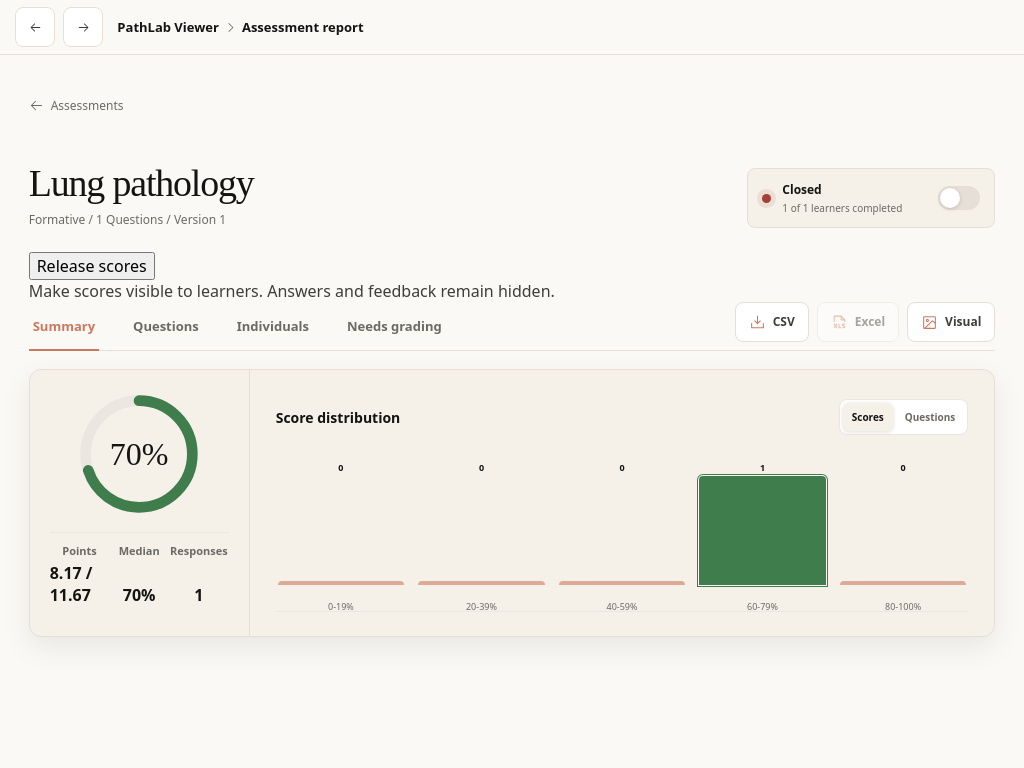
Test: presents a dedicated visual report with question and student views
Expected: the heading "Lung pathology" is shown, [29,162,254,204]
Expected: the heading "Score distribution" is shown, [276,408,400,427]
What coordinates should you click on to do the following:
click the button "Release scores"
I would click on:
 (92, 266)
Its box is [29,252,155,280].
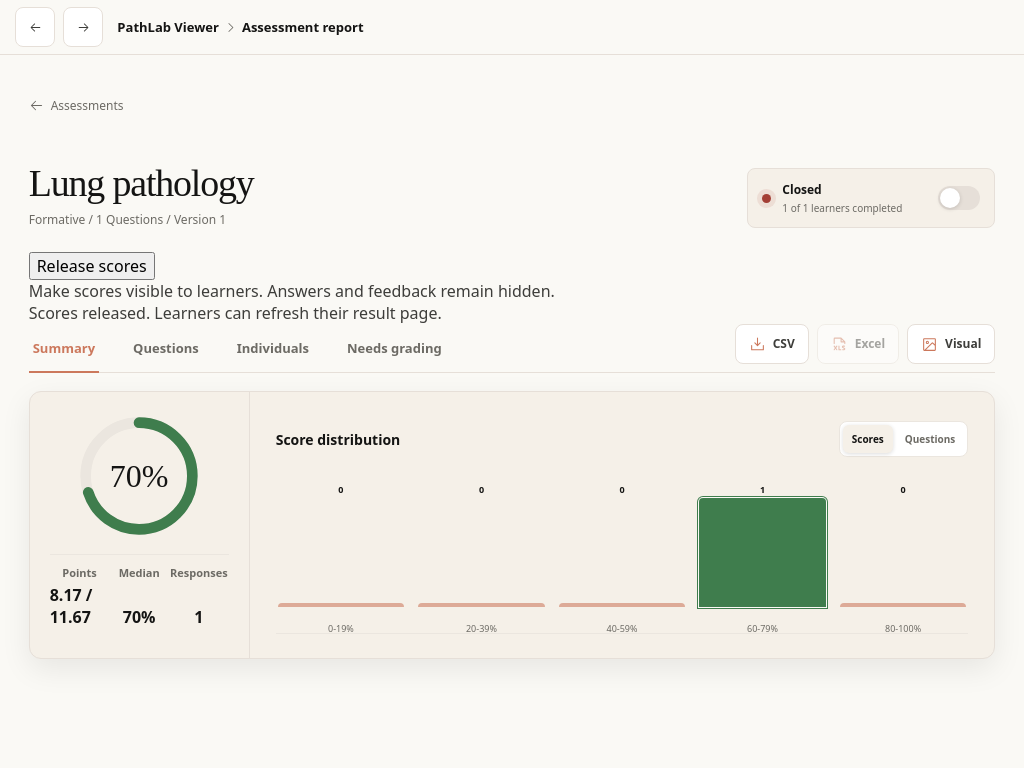
Result: the text "Scores released. Learners can refresh their result page." is shown at [29,302,442,324]
What coordinates should you click on to do the following:
click the button "Questions" in the row of "CSV"
I would click on:
 (166, 348)
Its box is [129,324,203,372].
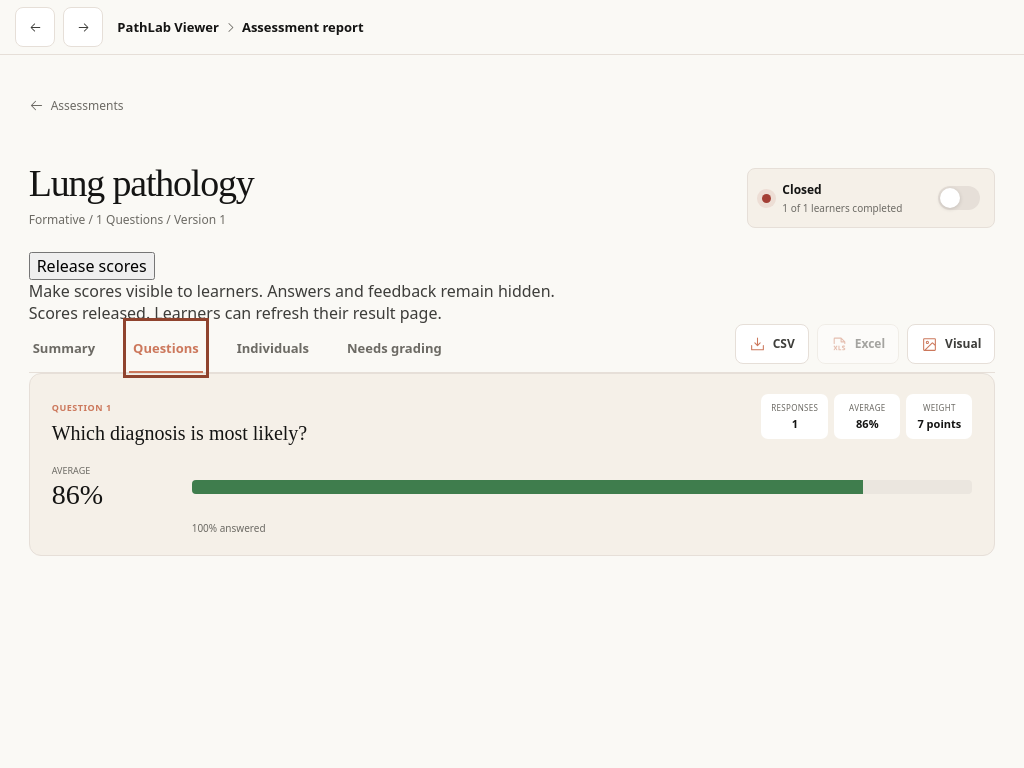
Expected: the button "Excel" is shown, [817,324,899,364]
Result: the heading "Which diagnosis is most likely?" is shown at [52,422,307,444]
Result: the text "7 points" is shown at [916,416,962,431]
What coordinates should you click on to do the following:
click the button "Individuals"
I would click on:
 (273, 348)
Its box is [233,324,313,372].
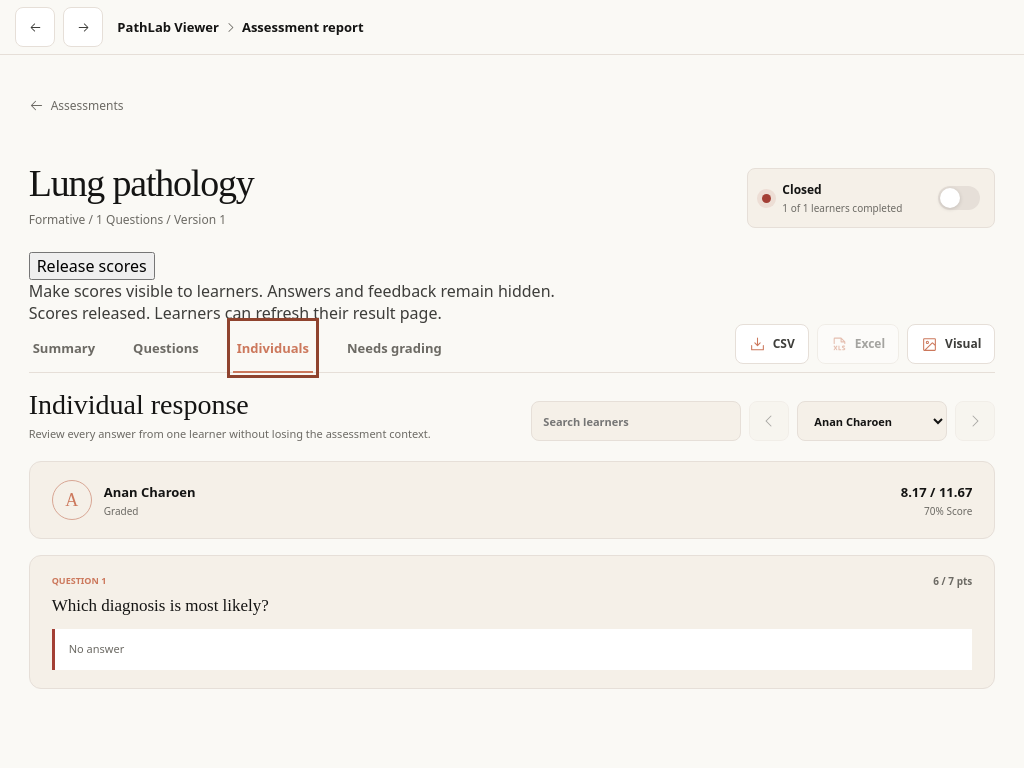
Result: the heading "Individual response" is shown at [29,389,249,420]
Result: the text "Anan Charoen" is shown 2 times
Result: the text "70% score" is shown at [924,504,972,518]
